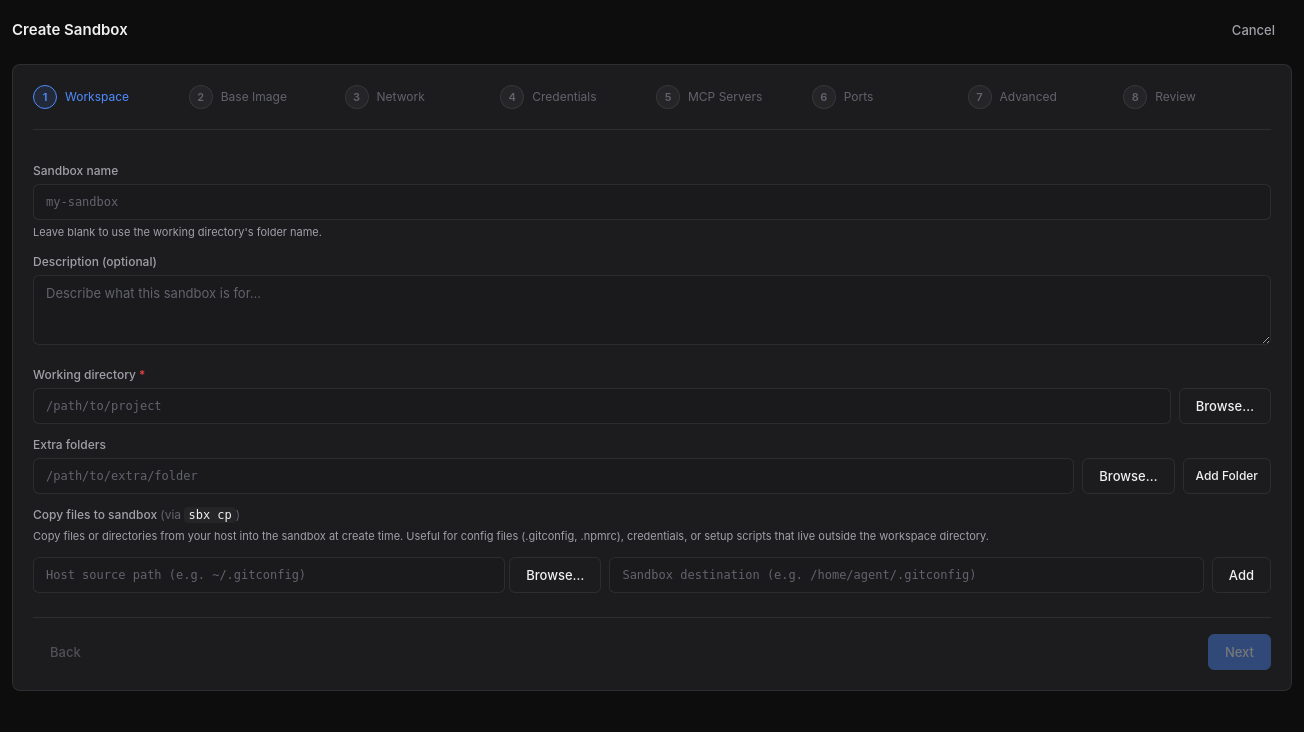
Scenario: CreateDefinition copy-files section › fills the host path via Browse… → Select file
The width and height of the screenshot is (1304, 732).
Click the button with aria-label "Browse host source path": (555, 575) [509,557,601,593]
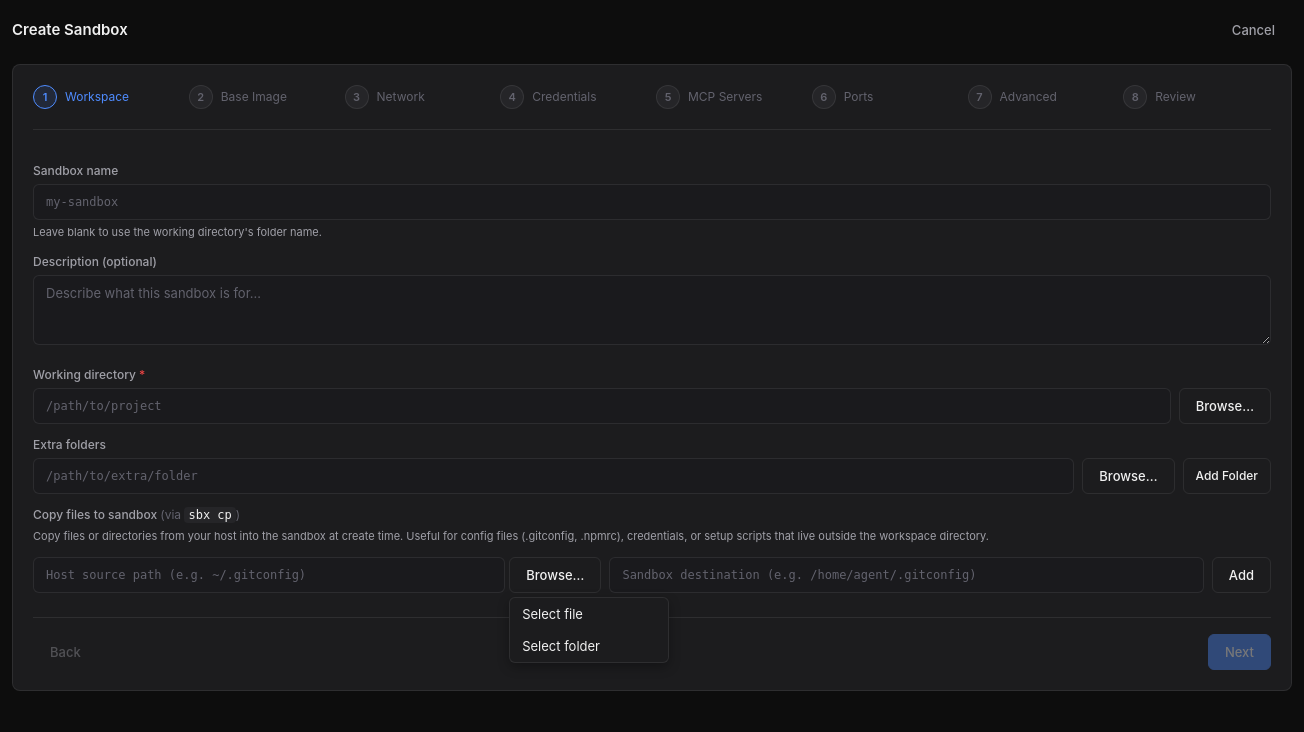
Click the menu item "Select file": (589, 614) [510,598,668,630]
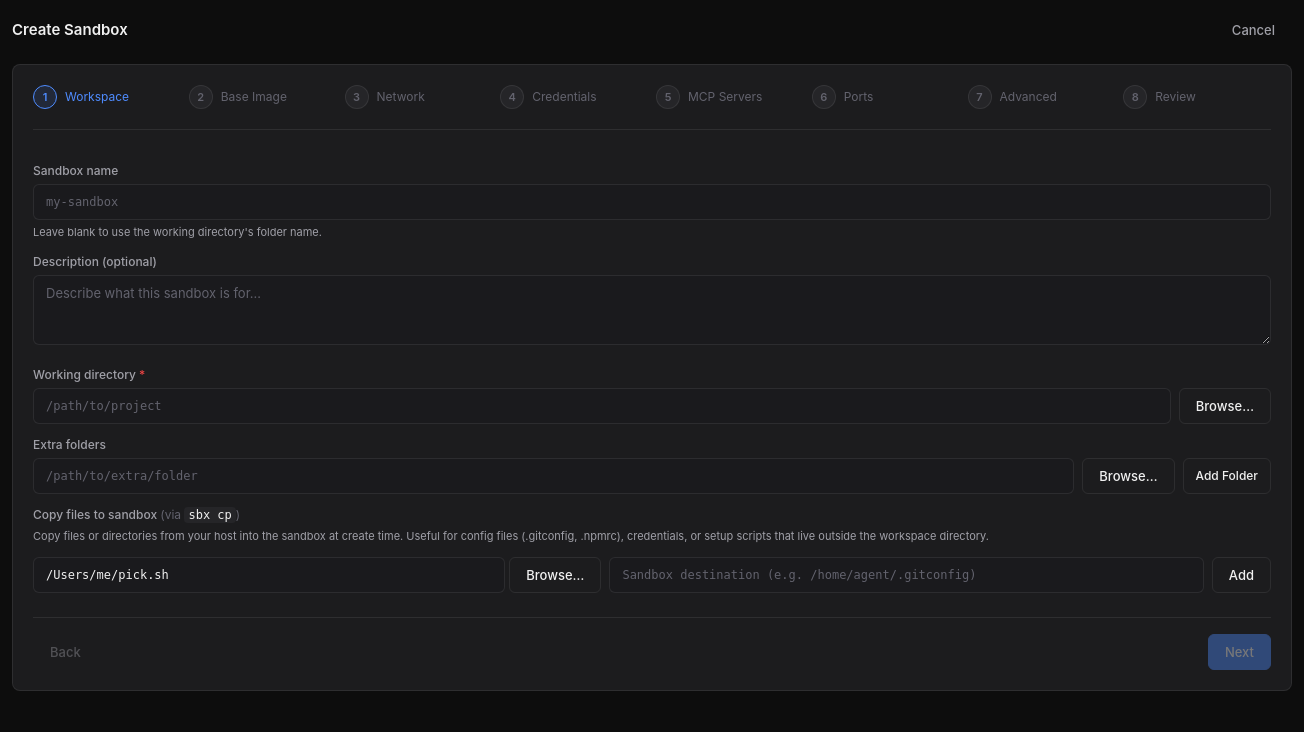
Now the field showing "/Users/me/pick.sh" is shown, box [33,557,505,593]
